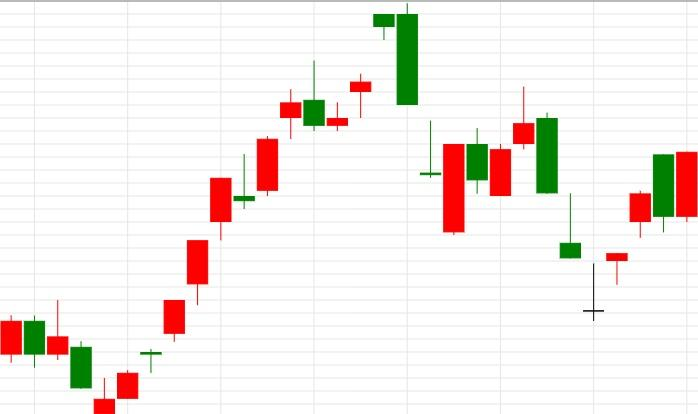shooting_star_fall: (164, 60, 325, 342), (443, 86, 535, 237)
